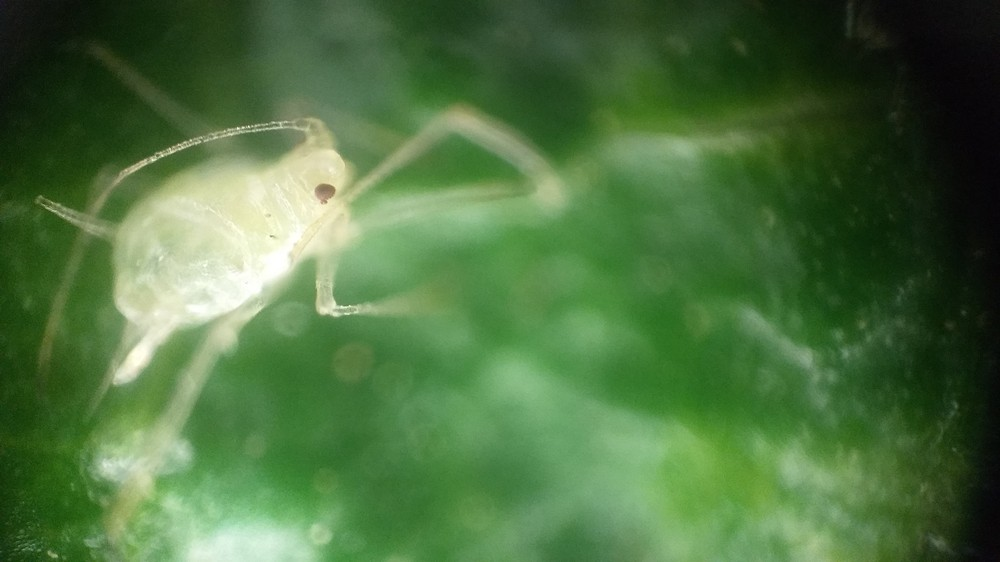Pulgon: (30, 54, 593, 435)
